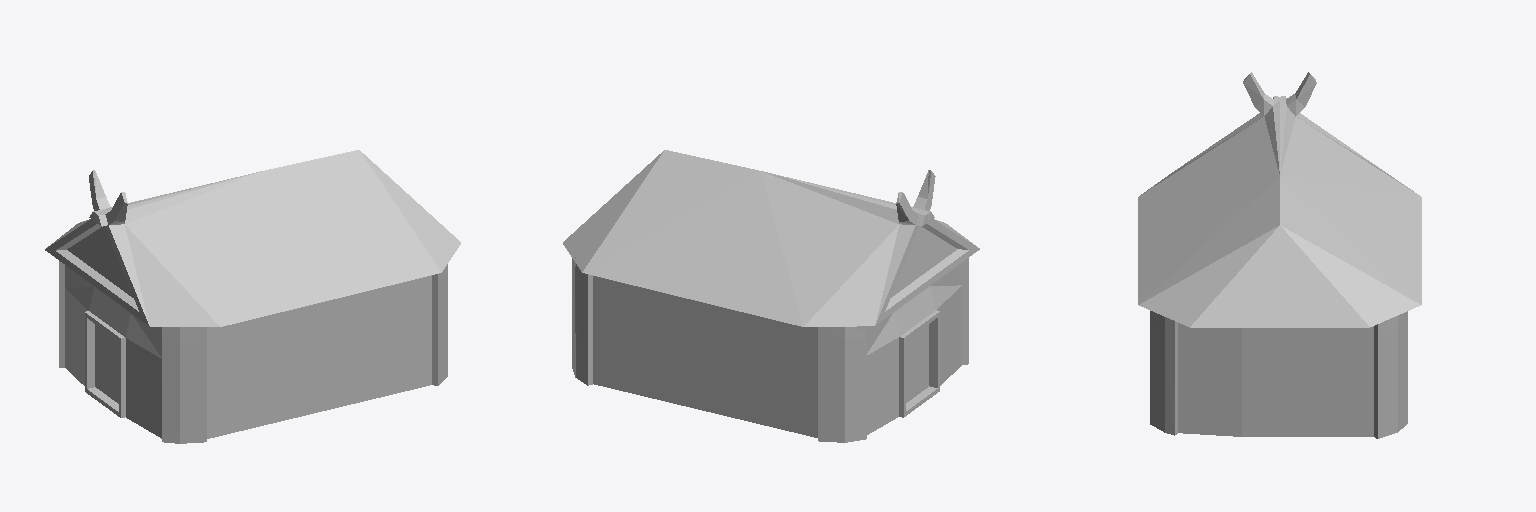
File: small_vhouse.obj
3 renders of one model, left to right at view 1: azimuth 30°, elevation 25°; view 2: azimuth 150°, elevation 25°; view 3: azimuth 270°, elevation 25°, orthographic.
Visible parts, largest first — view 1: small_vhouse group20; view 2: small_vhouse group20; view 3: small_vhouse group20.
Boxes of the visible parts, x1=… form: small_vhouse group20: x1=45, y1=150, x2=460, y2=443; small_vhouse group20: x1=563, y1=150, x2=979, y2=442; small_vhouse group20: x1=1138, y1=72, x2=1421, y2=438.
Bounding box in the file's own units: 7.76 × 5.14 × 5.95.